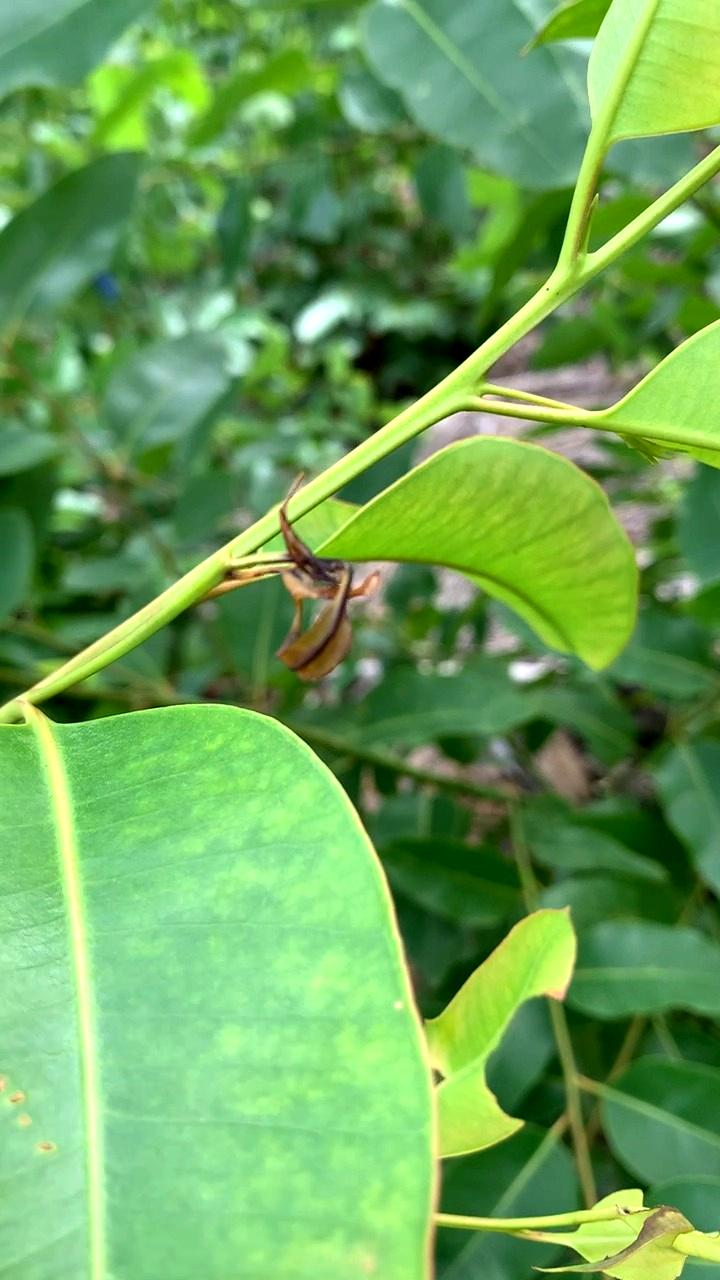Helopeltis-Withered Sprout: (260, 516, 387, 687)
